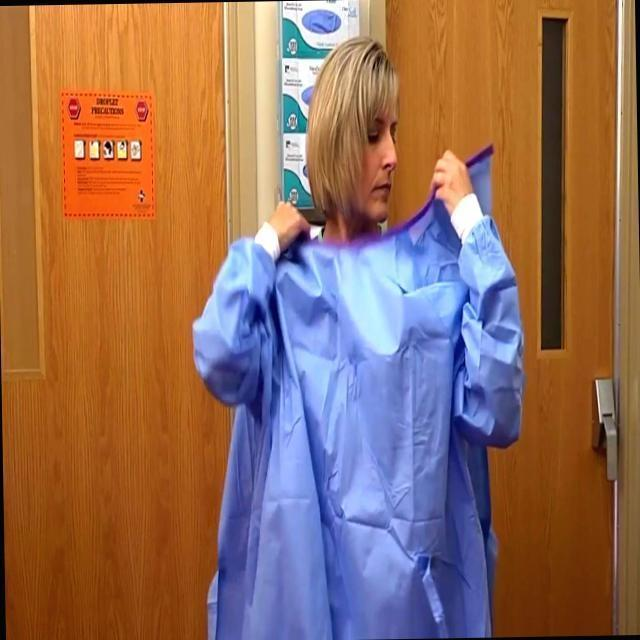no_apron: (256, 199, 308, 245), (437, 149, 473, 215)
no_hairnet: (347, 136, 394, 205)
